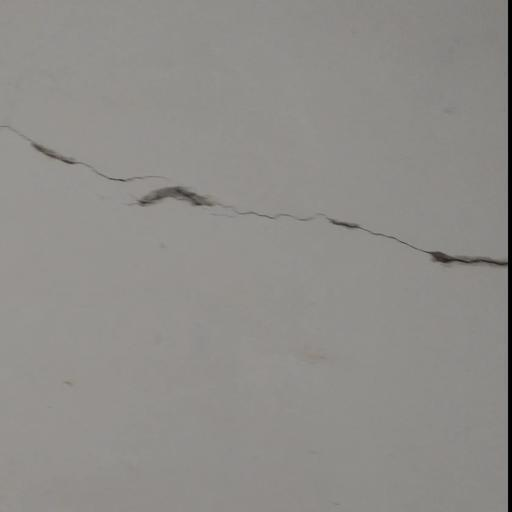major_crack: (0, 115, 508, 272)
